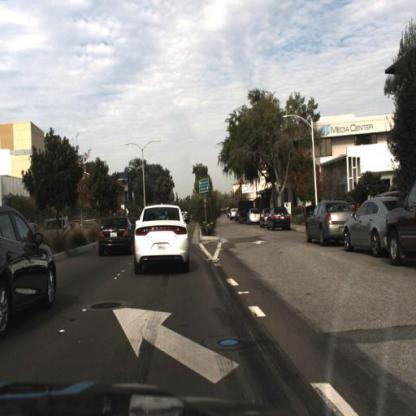car: (1, 202, 57, 339), (130, 206, 191, 276), (342, 195, 392, 255), (304, 198, 353, 245), (98, 214, 134, 255), (41, 215, 73, 248), (266, 206, 293, 233), (247, 209, 264, 226)
truck: (237, 196, 258, 223)
